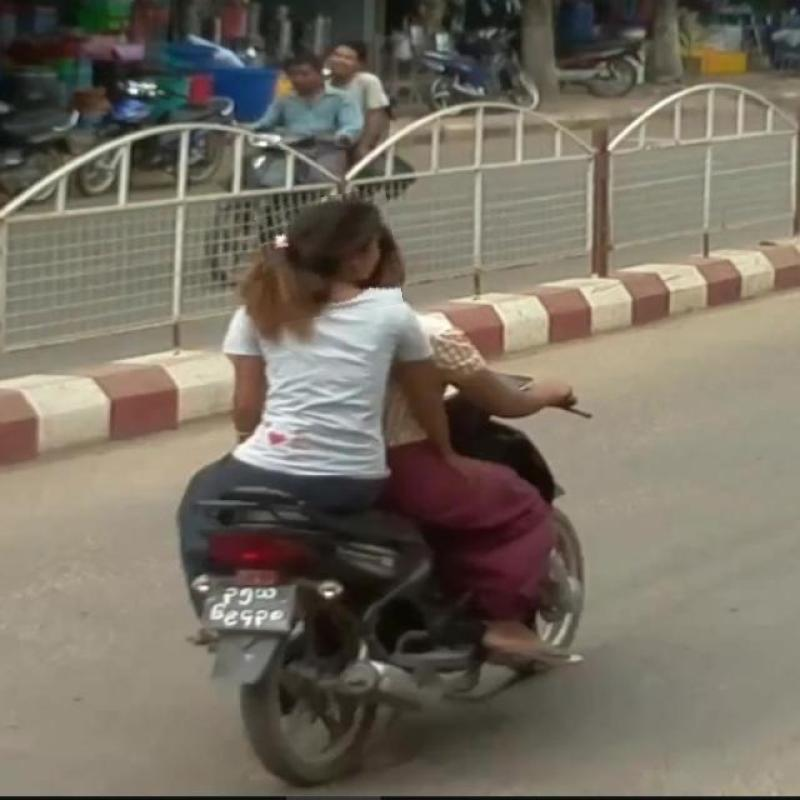nohelmet: (257, 192, 399, 320)
